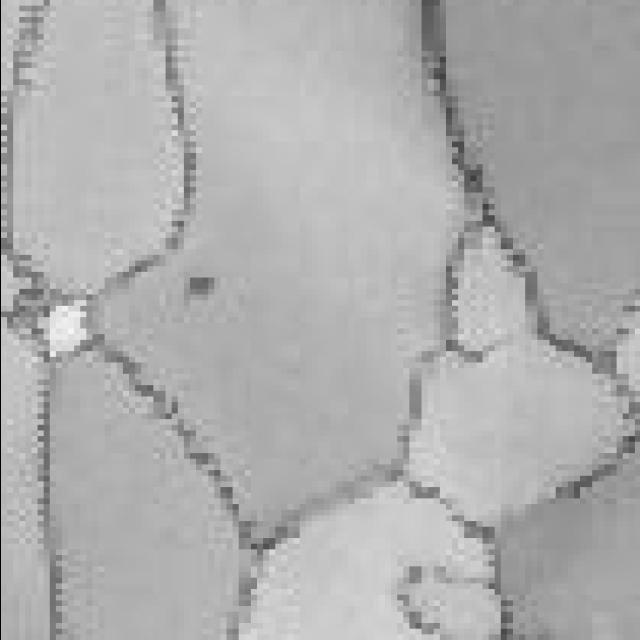good_void: (183, 269, 220, 300)
